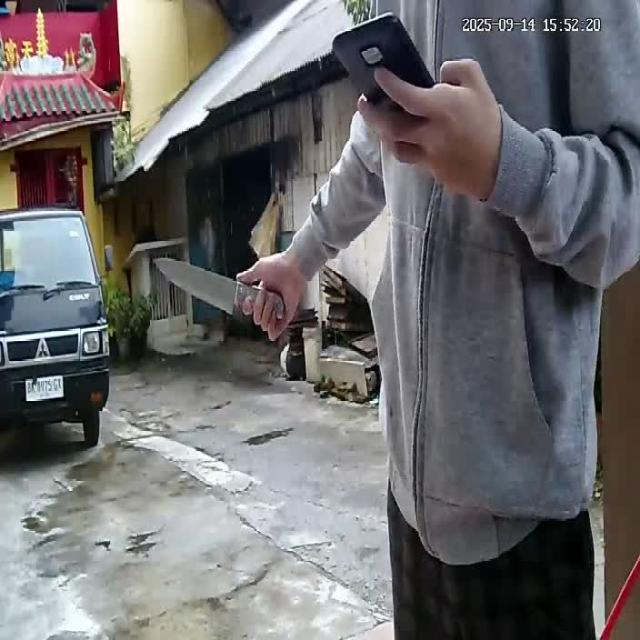senjata_tajam: (154, 256, 240, 320)
